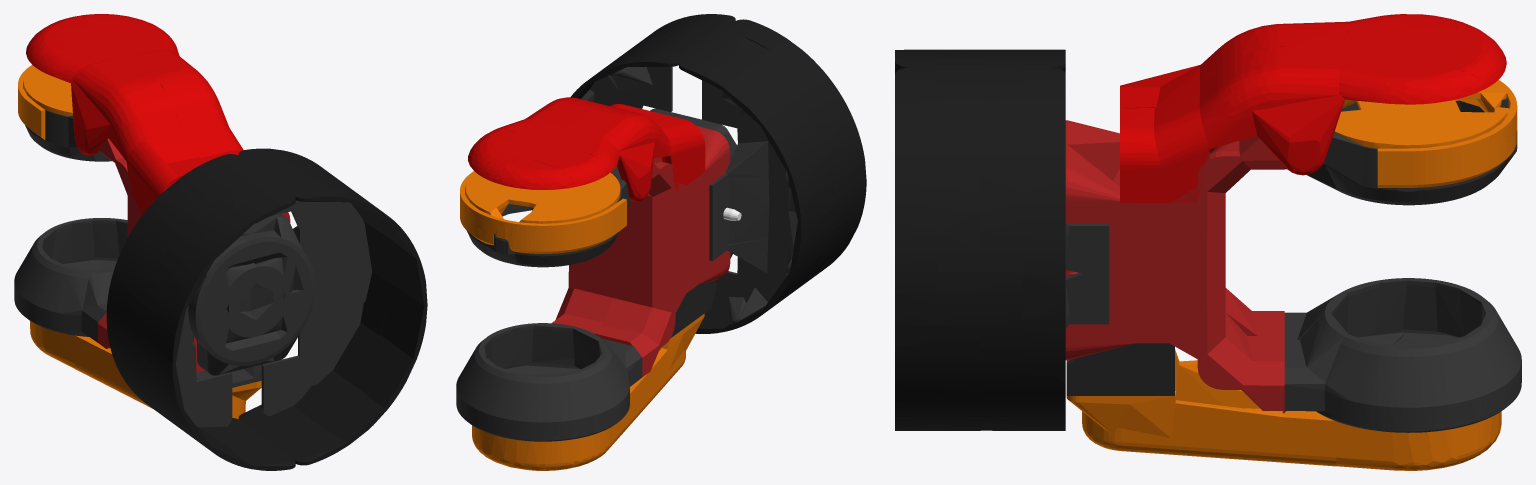
The model's file is RARM_LINK3_mesh.dae.
The picture shows the model from 3 angles, left to right: view 1: azimuth 30°, elevation 25°; view 2: azimuth 150°, elevation 25°; view 3: azimuth 270°, elevation 25°; orthographic projection. The views are drawn at different scales.
Visible parts, largest first — view 1: RARM_LINK3 (×14); view 2: RARM_LINK3 (×14); view 3: RARM_LINK3 (×12).
Part boxes in pixels (x1,y1,x2,y2): RARM_LINK3 (×14): (14, 14, 427, 470); RARM_LINK3 (×14): (456, 14, 866, 470); RARM_LINK3 (×12): (895, 14, 1521, 470).
Size of the model in its own units: 0.123 by 0.1389 by 0.202.
